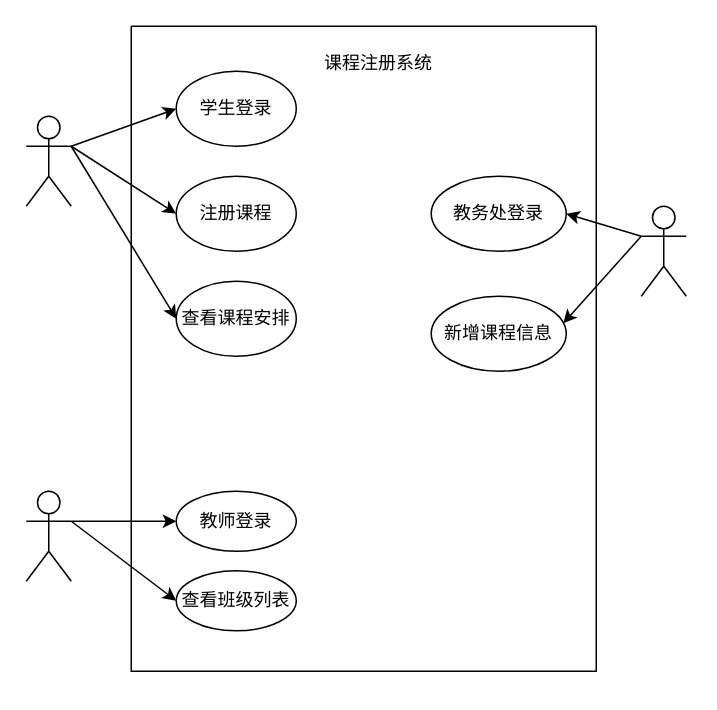
This 717x710 diagram has some shape labels left out. The shapes that lost their labels are listed below. From the top down, each one's box as (x1, y1, x2, y2) in pixels, then its label:
(25, 115, 71, 206): 学生
(640, 205, 686, 296): 教务处
(25, 490, 71, 581): 教师
